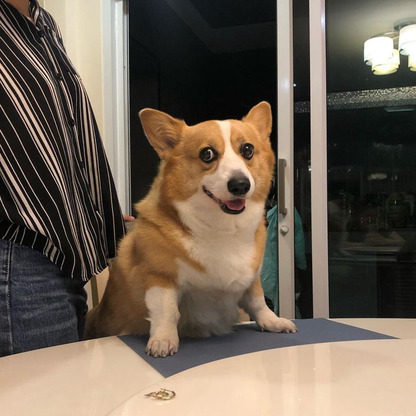Corgi: (102, 86, 305, 359)
